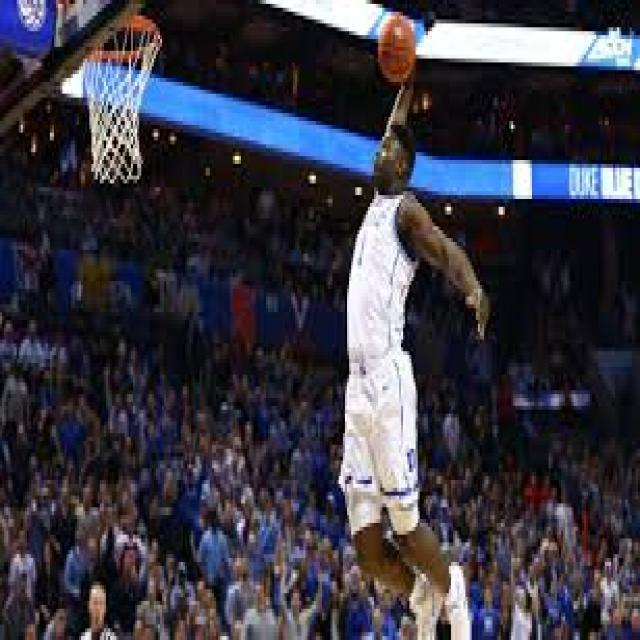rim: (380, 12, 416, 82)
